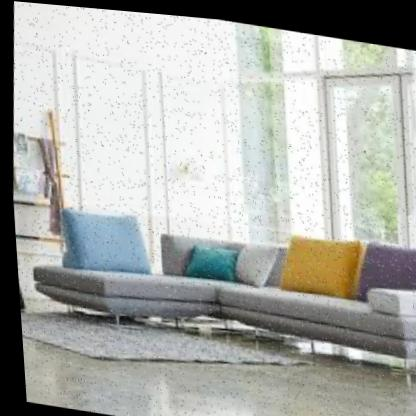Sofa: (9, 168, 416, 416)
